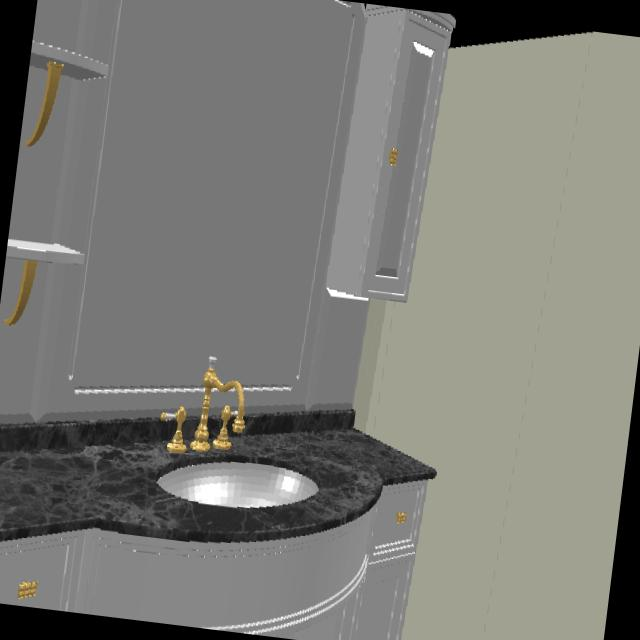cabinet: (0, 481, 426, 640)
washbasin: (157, 463, 318, 512)
